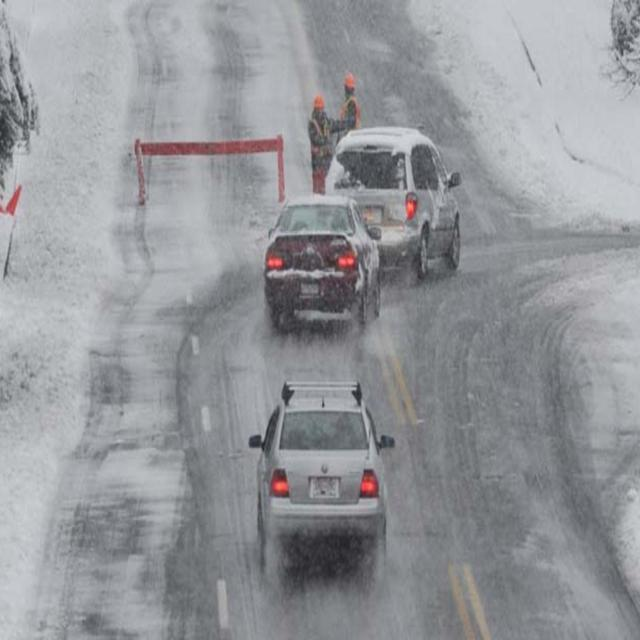Car: (247, 379, 394, 567), (324, 128, 466, 277), (260, 195, 375, 326)
